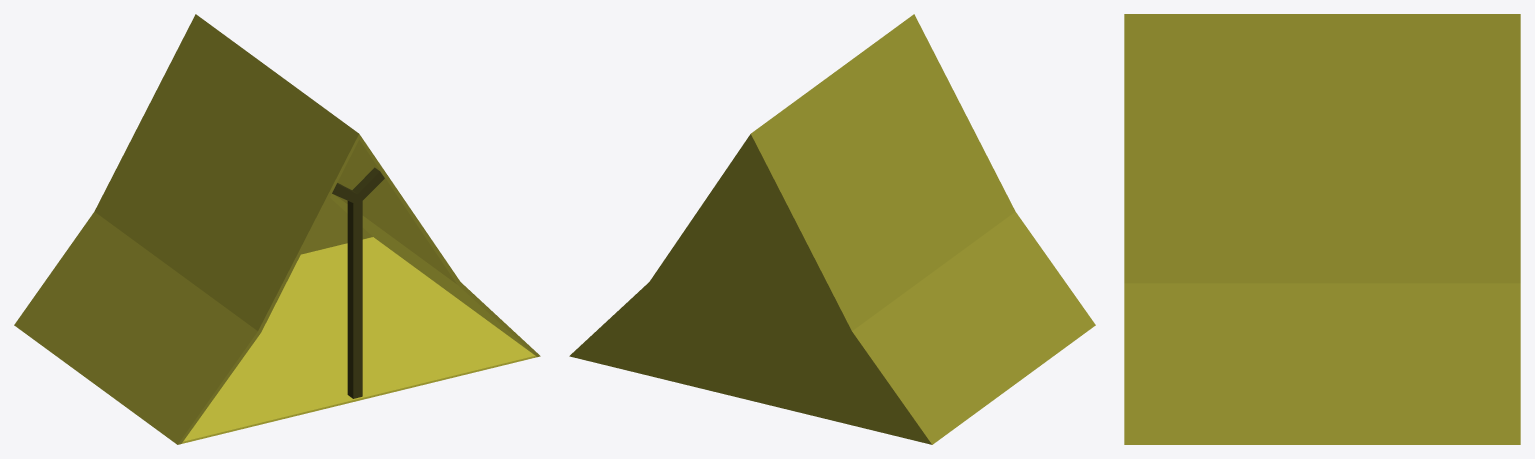
The model's file is Tent_1_Yellow.fbx.
3 views of the same model, side by side, from view 1: azimuth 30°, elevation 25°; view 2: azimuth 150°, elevation 25°; view 3: azimuth 270°, elevation 25° (orthographic). The views are drawn at different scales.
Parts seen in each view (by area): view 1: Tent_1_Yellow_Part_3, Tent_1_Yellow_Part_1, Tent_1_Yellow_Part_2, Tent_1_Yellow_Part_5, Tent_1_Yellow_Part_7, Tent_1_Yellow_Part_4, Tent_1_Yellow_Part_6; view 2: Tent_1_Yellow_Part_3, Tent_1_Yellow_Part_6, Tent_1_Yellow_Part_2, Tent_1_Yellow_Part_5; view 3: Tent_1_Yellow_Part_5, Tent_1_Yellow_Part_4.
Part boxes in pixels (<box>): Tent_1_Yellow_Part_3: <box>94,14,359,332</box>; Tent_1_Yellow_Part_1: <box>181,237,536,443</box>; Tent_1_Yellow_Part_2: <box>14,212,260,444</box>; Tent_1_Yellow_Part_5: <box>335,134,460,284</box>; Tent_1_Yellow_Part_7: <box>332,167,384,398</box>; Tent_1_Yellow_Part_4: <box>330,194,540,357</box>; Tent_1_Yellow_Part_6: <box>301,198,372,254</box>; Tent_1_Yellow_Part_3: <box>750,14,1015,332</box>; Tent_1_Yellow_Part_6: <box>573,140,928,443</box>; Tent_1_Yellow_Part_2: <box>849,212,1095,444</box>; Tent_1_Yellow_Part_5: <box>649,134,750,284</box>; Tent_1_Yellow_Part_5: <box>1124,14,1520,283</box>; Tent_1_Yellow_Part_4: <box>1124,283,1520,444</box>.
Size of the model in its own units: 192 by 135 by 150.
